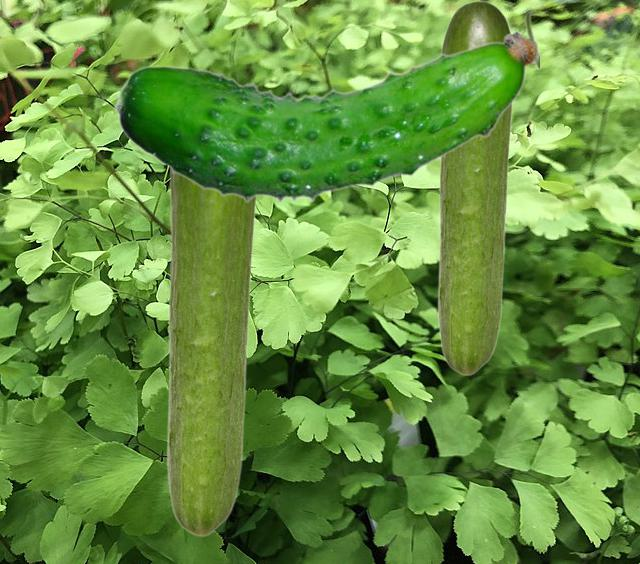cucumber: (112, 10, 538, 203), (166, 170, 257, 536), (437, 0, 514, 375)
